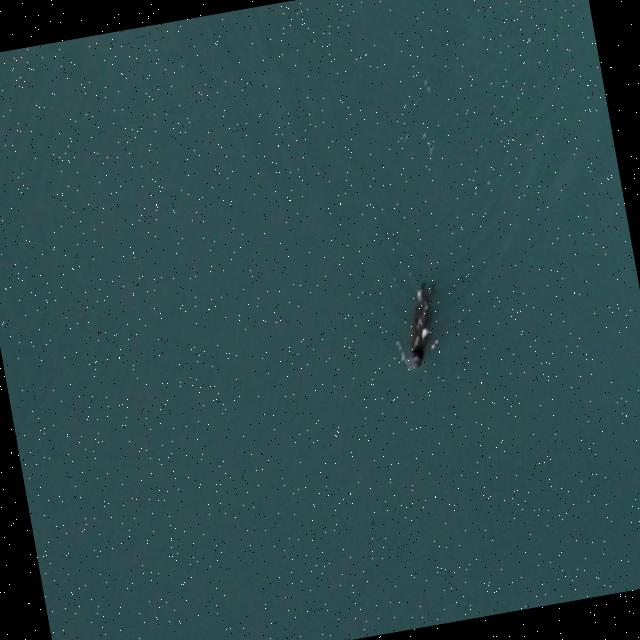seal: (404, 279, 437, 374)
